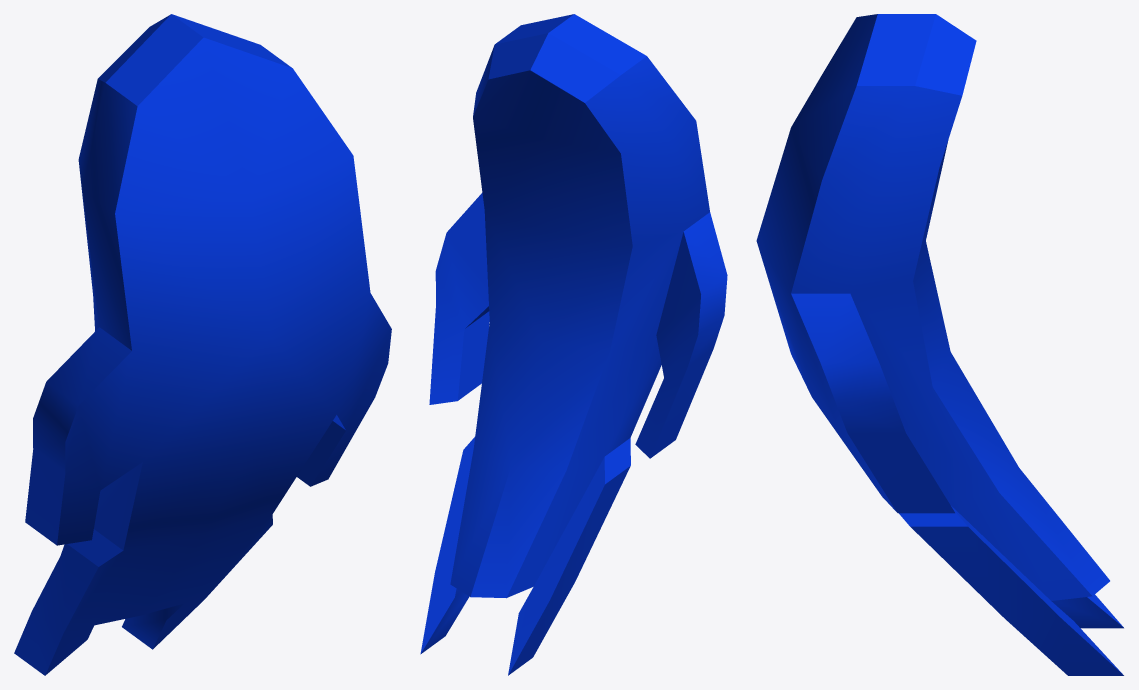
File: enemy_medium.fbx
3 views of the same model, side by side, from view 1: azimuth 30°, elevation 25°; view 2: azimuth 150°, elevation 25°; view 3: azimuth 270°, elevation 25° (orthographic). The views are drawn at different scales.
Parts seen in each view (by area): view 1: enemy_medium; view 2: enemy_medium; view 3: enemy_medium.
Boxes of the visible parts, x1=… form: enemy_medium: x1=14, y1=14, x2=391, y2=675; enemy_medium: x1=420, y1=14, x2=727, y2=675; enemy_medium: x1=756, y1=14, x2=1123, y2=675.
Size of the model in its own units: 271 by 563 by 294.
